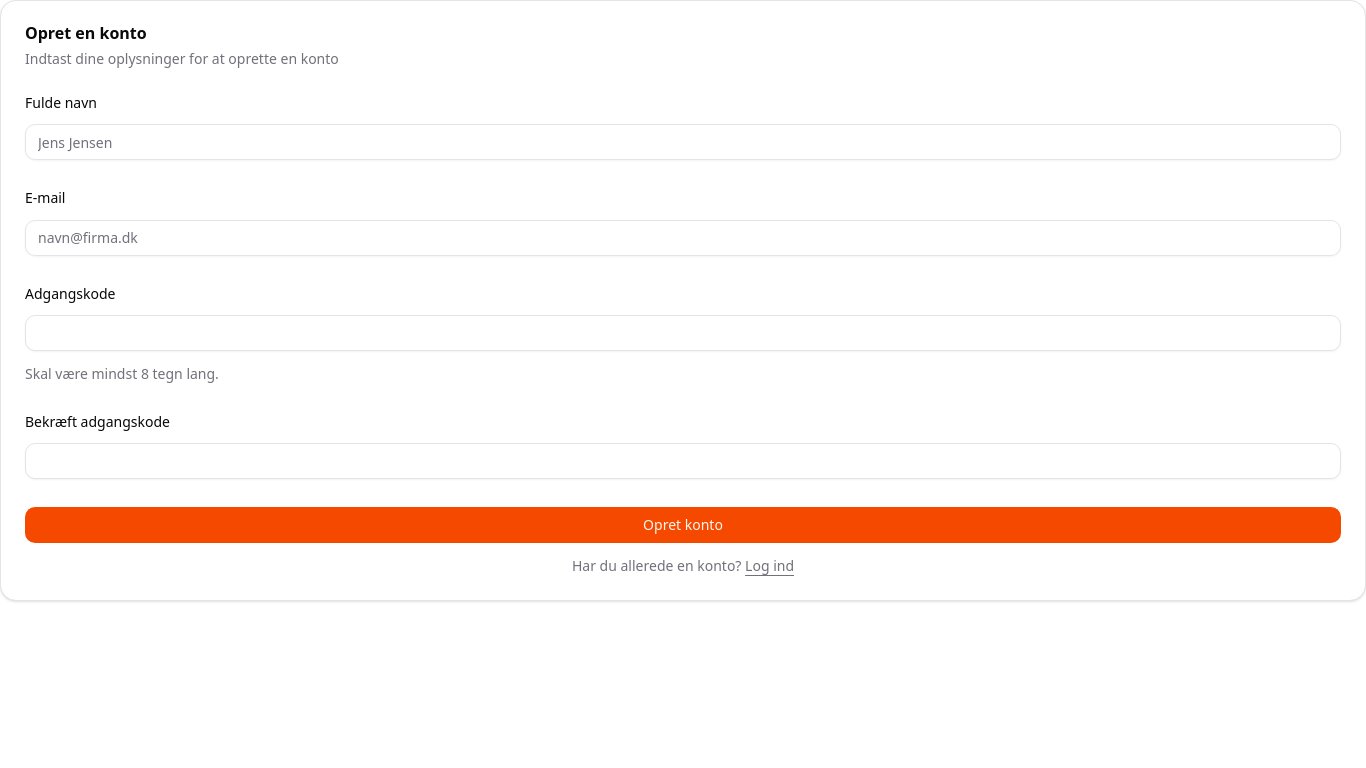
SignupForm › shows error when passwords do not match
Type "Test User" into the field labelled "Fulde navn" at (683, 142), box [25,124,1341,160]
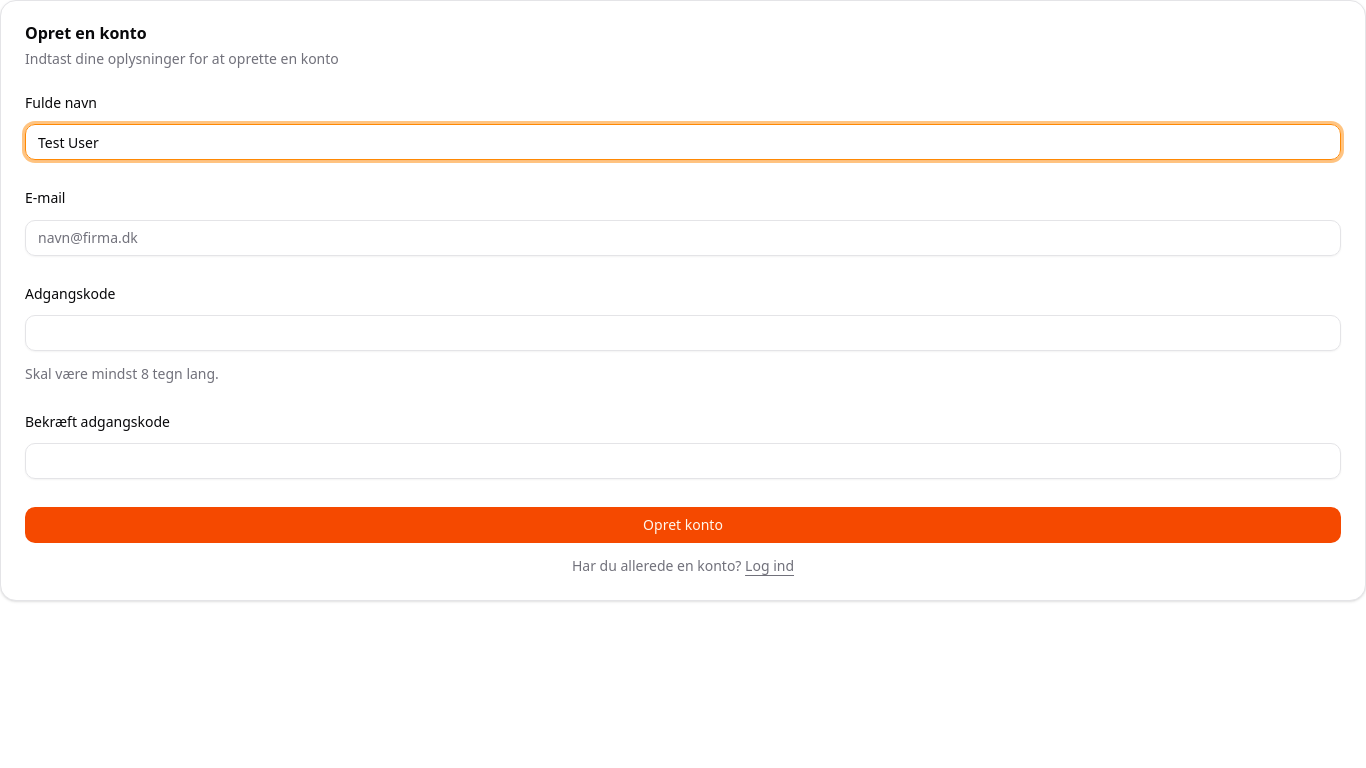
Type "test@example.com" into the field labelled "E-mail" at (683, 238), box [25,220,1341,256]
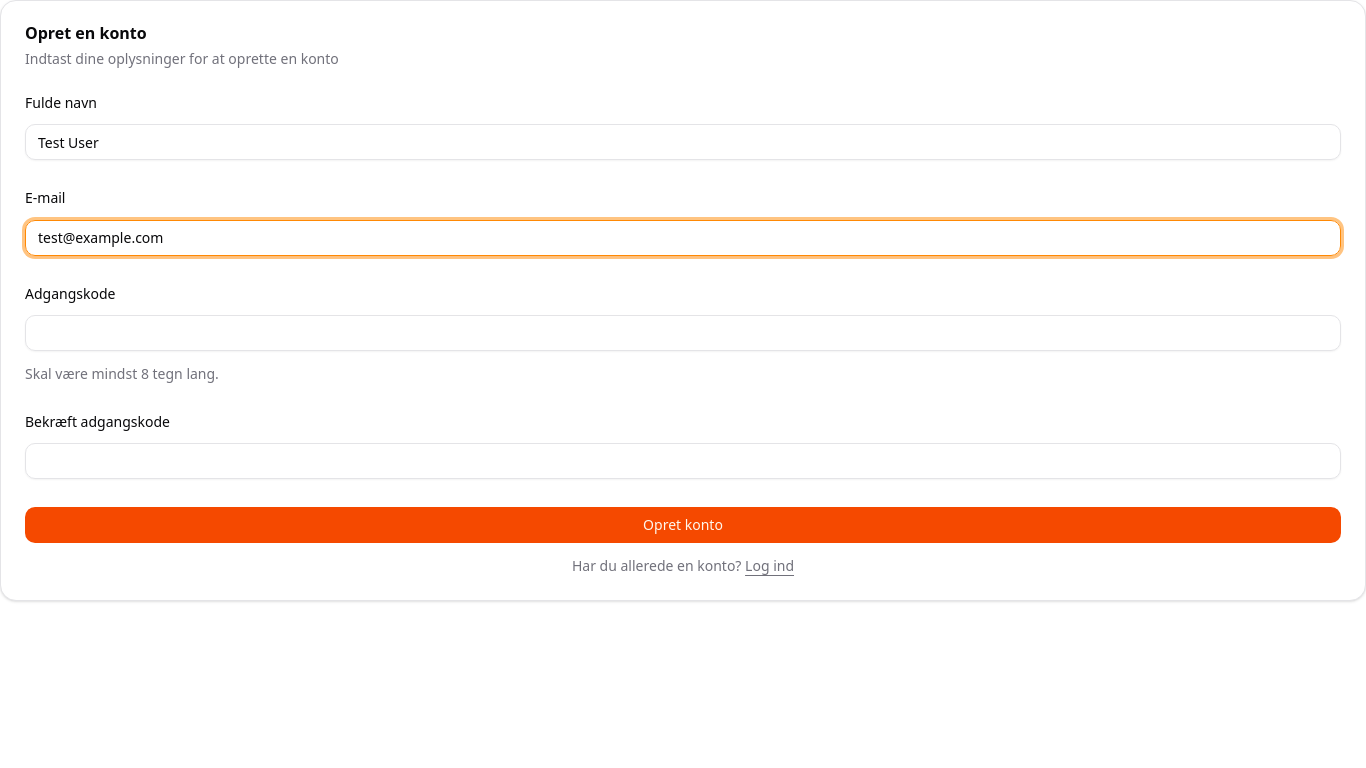
Type "password123" into the password field labelled "Adgangskode" at (683, 333), box [25,315,1341,351]
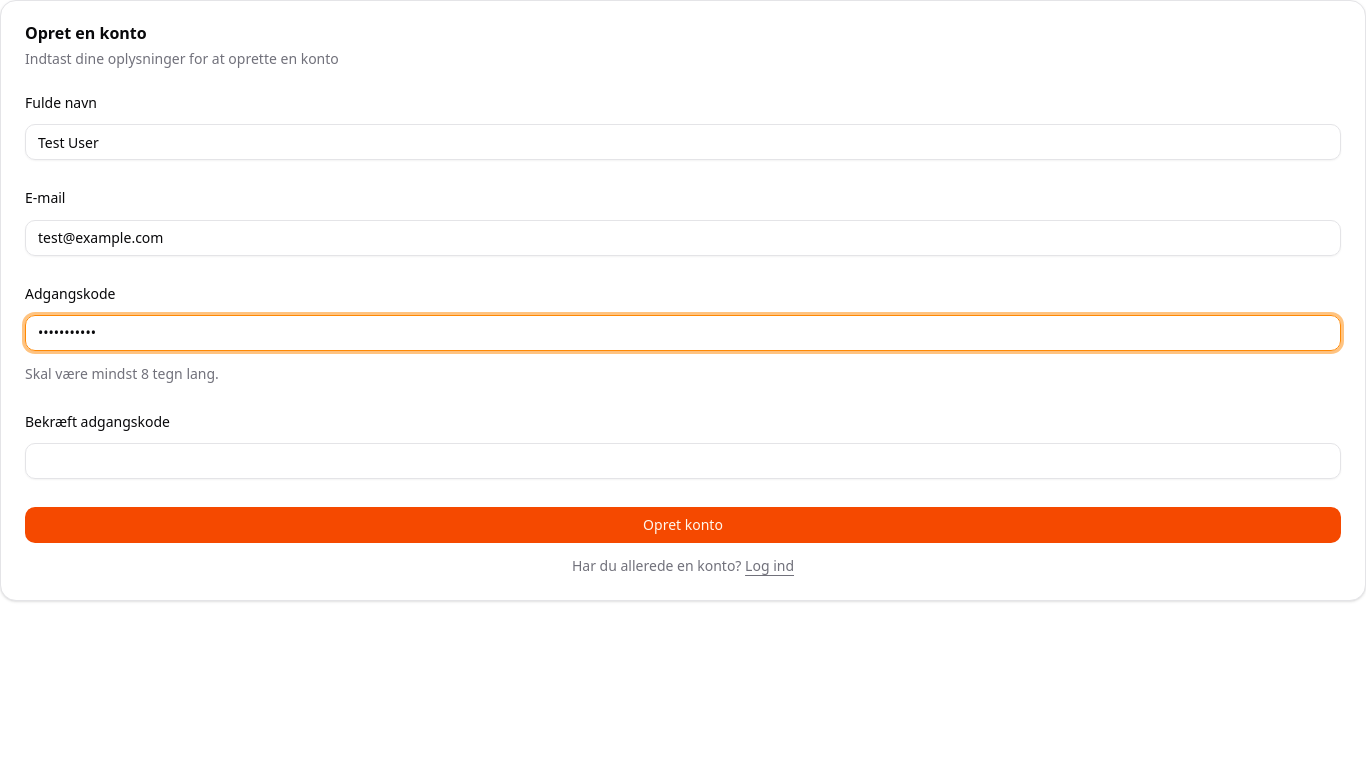
Type "password456" into the password field labelled "Bekræft adgangskode" at (683, 461), box [25,443,1341,479]
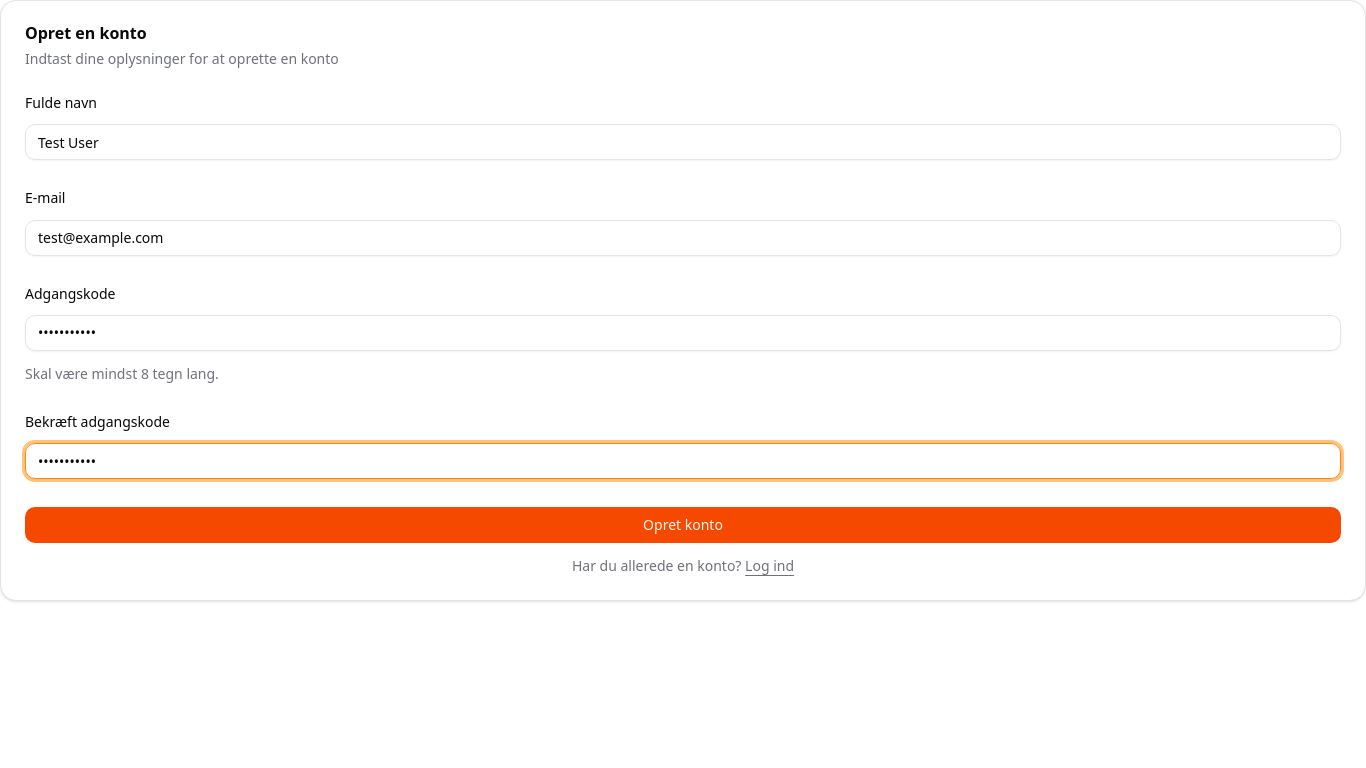
Click the button "Opret konto" at (683, 525), box [25,507,1341,543]
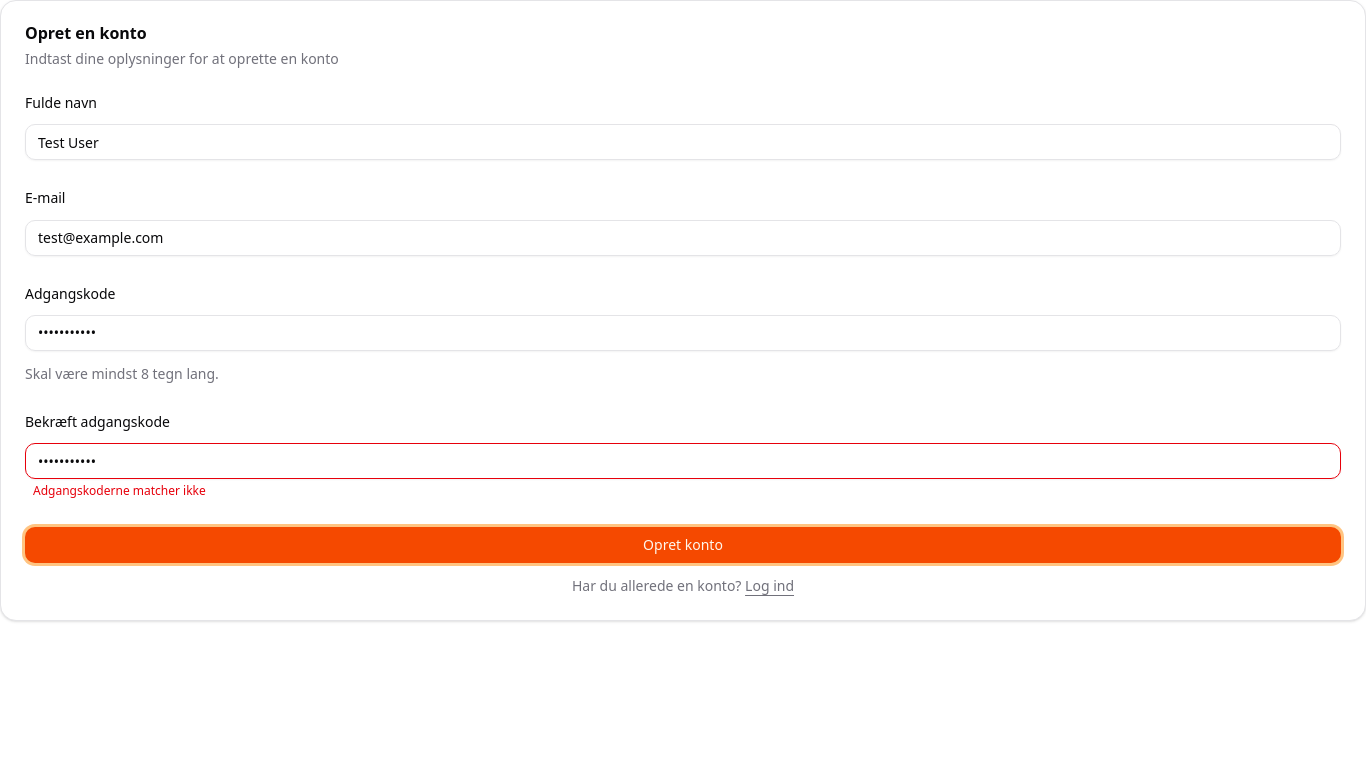
Check: the text "Adgangskoderne matcher ikke" is shown, box [33,482,206,499]
